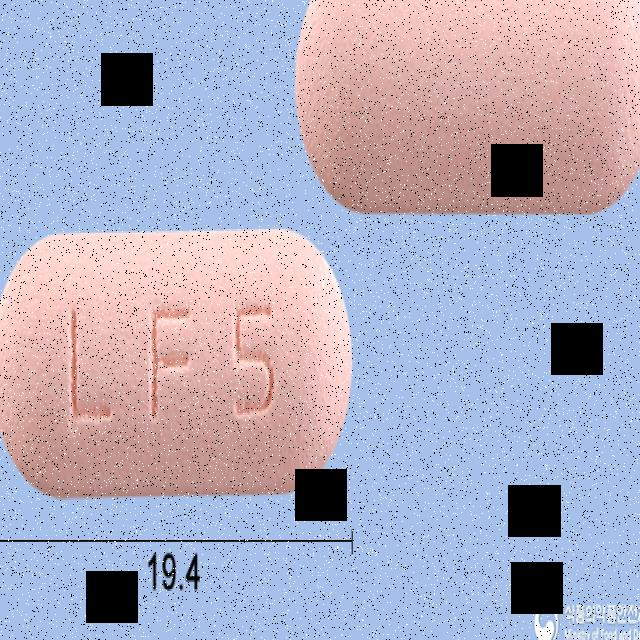Uropenta Tab: (0, 229, 354, 495)
